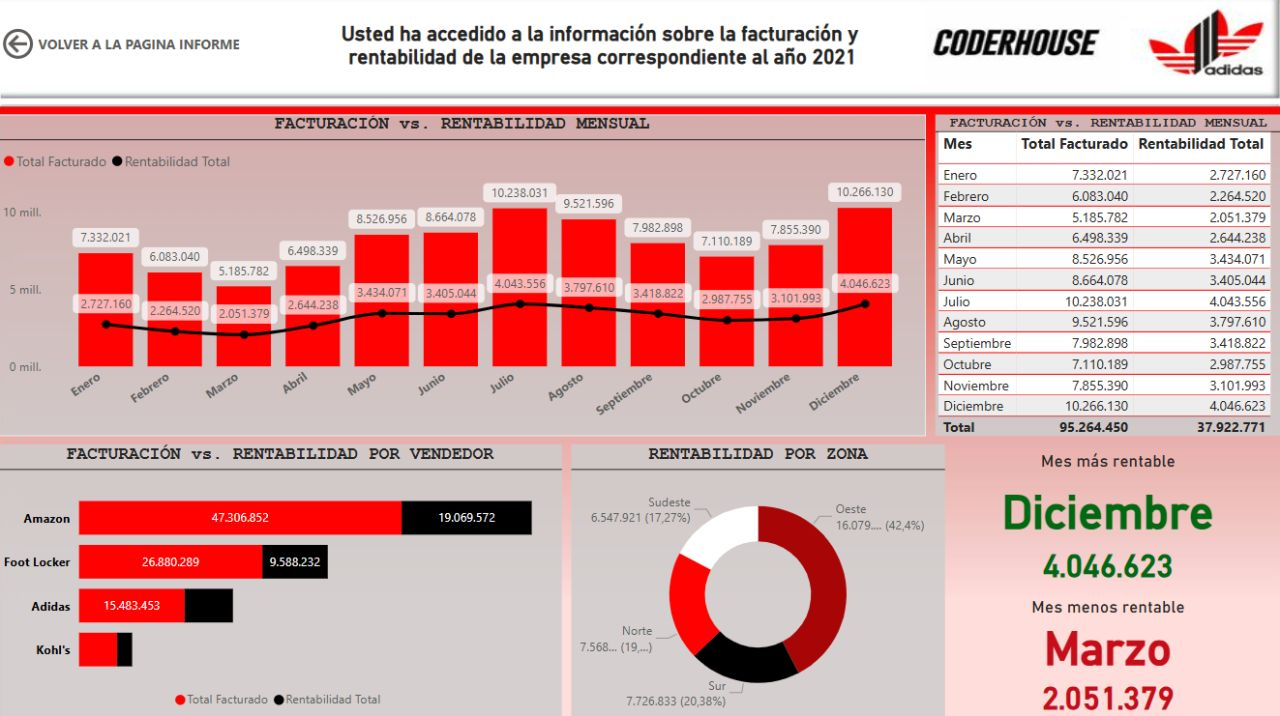

The dashboard page shown, as its layout file describes it:
{"tool":"powerbi","page":{"name":"MENSUALES","canvas":[1280,720],"ordinal":3},"visuals":[{"type":"lineClusteredColumnComboChart","title":"FACTURACIÓN vs. RENTABILIDAD MENSUAL","fields":{"Y":["MEDIDAS.Total Facturado"],"Y2":["MEDIDAS.Rentabilidad Total"],"Category":["CALENDARIO.Mes"]},"box":[0,118.2,925.3,320.9],"z":0},{"type":"tableEx","title":"FACTURACIÓN vs. RENTABILIDAD MENSUAL","fields":{"Values":["CALENDARIO.Mes","MEDIDAS.Total Facturado","MEDIDAS.Rentabilidad Total"]},"box":[935,118.2,345,320.9],"z":1000},{"type":"barChart","title":"FACTURACIÓN vs. RENTABILIDAD POR VENDEDOR","fields":{"Category":["VENDEDOR.Vendedor"],"Y":["MEDIDAS.Total Facturado","MEDIDAS.Rentabilidad Total"]},"box":[0,447.6,562.2,272.7],"z":2000},{"type":"donutChart","title":"RENTABILIDAD POR ZONA","fields":{"Y":["MEDIDAS.Rentabilidad Total"],"Category":["REGIONES.Región"]},"box":[571.9,447.6,372.8,272.7],"z":3000},{"type":"actionButton","box":[0,27.7,244.9,39.8],"z":4000},{"type":"card","fields":{"Values":["MEDIDAS.Narrrativa Hoja Mensuales"]},"box":[281.1,7.2,644.2,82],"z":5000},{"type":"card","title":"Mes más rentable","fields":{"Values":["Min(CALENDARIO.Mes)"]},"box":[967.6,453.6,279.9,97.7],"z":6000},{"type":"card","title":"Mes menos rentable","fields":{"Values":["Min(CALENDARIO.Mes)"]},"box":[967.6,599.6,279.9,78.4],"z":7000},{"type":"card","title":"Mes más rentable","fields":{"Values":["MEDIDAS.Rentabilidad Total"]},"box":[979.6,534.5,255.8,65.1],"z":8000},{"type":"card","title":"Mes menos rentable","fields":{"Values":["MEDIDAS.Rentabilidad Total"]},"box":[1024.3,678,166.5,42.2],"z":9000}]}

Visuals, with their boxes in screenshot pixels (x1, y1, x2, y2), scaled from the page's 1280x720 canvas onto the 1280x716 screenshot:
"FACTURACIÓN vs. RENTABILIDAD MENSUAL" lineClusteredColumnComboChart: pyautogui.locateOnScreen(0, 118, 925, 437)
"FACTURACIÓN vs. RENTABILIDAD MENSUAL" tableEx: pyautogui.locateOnScreen(935, 118, 1279, 437)
"FACTURACIÓN vs. RENTABILIDAD POR VENDEDOR" barChart: pyautogui.locateOnScreen(0, 445, 562, 715)
"RENTABILIDAD POR ZONA" donutChart: pyautogui.locateOnScreen(572, 445, 945, 715)
actionButton: pyautogui.locateOnScreen(0, 28, 245, 67)
card - MEDIDAS.Narrrativa Hoja Mensuales: pyautogui.locateOnScreen(281, 7, 925, 89)
"Mes más rentable" card: pyautogui.locateOnScreen(968, 451, 1248, 548)
"Mes menos rentable" card: pyautogui.locateOnScreen(968, 596, 1248, 674)
"Mes más rentable" card: pyautogui.locateOnScreen(980, 532, 1235, 596)
"Mes menos rentable" card: pyautogui.locateOnScreen(1024, 674, 1191, 715)
